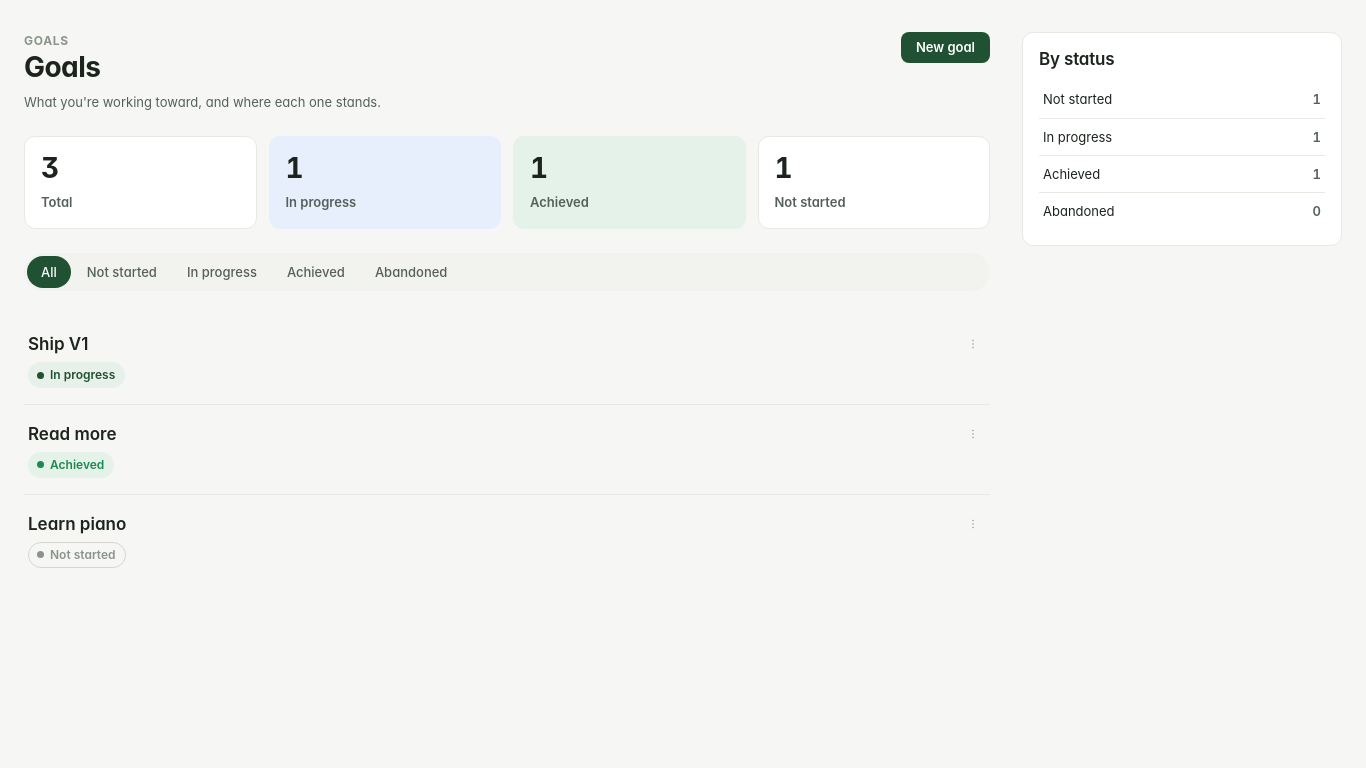
it: GoalsScreen › opens the new-goal dialog
Click the button "New goal" at (945, 48), box 901,32 -> 990,63
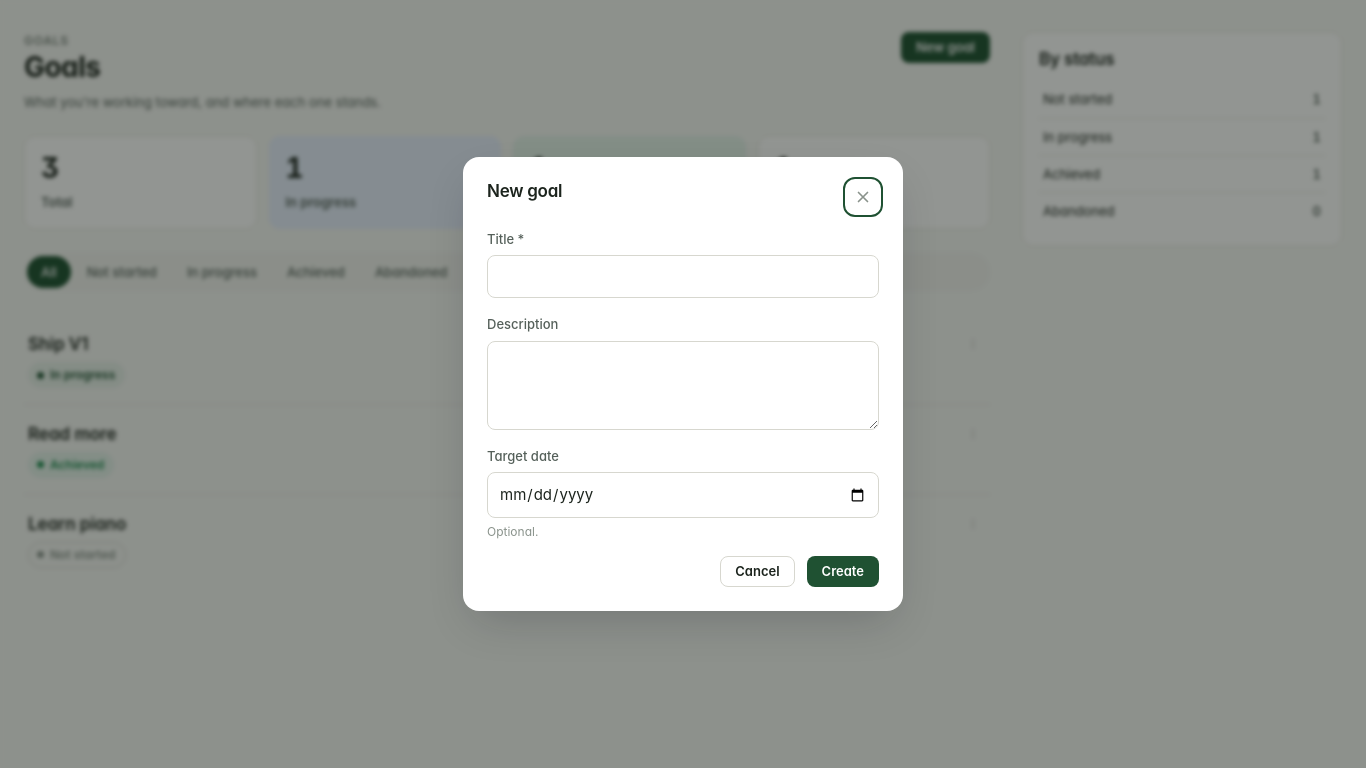
Result: the dialog "New goal" is shown at 463,157 -> 903,611
